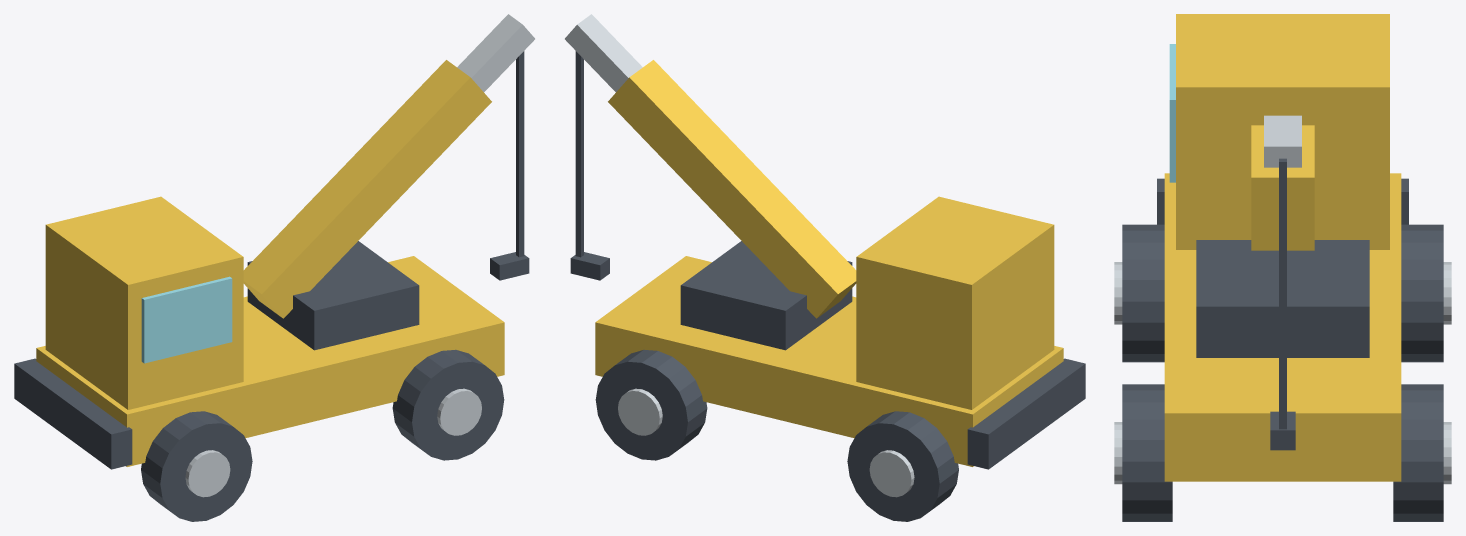
File: crane.gltf
3 views of the same model, side by side, from view 1: azimuth 30°, elevation 25°; view 2: azimuth 150°, elevation 25°; view 3: azimuth 270°, elevation 25° (orthographic). The views are drawn at different scales.
Parts seen in each view (by area): view 1: cab, chassis, boom, rubber tyre (×2), turntable, windscreen, bumper, wheel hub (×2), extension, cable, hook; view 2: cab, chassis, boom, rubber tyre (×2), turntable, bumper, wheel hub (×2), extension, cable, hook; view 3: cab, chassis, rubber tyre (×4), turntable, boom, wheel hub (×4), cable, extension, windscreen, hook, bumper.
Boxes of the visible parts, bbox=[...] form: cab: bbox=[45, 196, 243, 409]; chassis: bbox=[36, 256, 504, 466]; boom: bbox=[243, 60, 491, 318]; rubber tyre (×2): bbox=[141, 349, 504, 521]; turntable: bbox=[247, 241, 419, 350]; windscreen: bbox=[141, 276, 232, 363]; bumper: bbox=[14, 358, 132, 469]; wheel hub (×2): bbox=[185, 388, 481, 497]; extension: bbox=[457, 14, 534, 91]; cable: bbox=[516, 51, 524, 257]; hook: bbox=[490, 252, 529, 280]; cab: bbox=[856, 196, 1054, 409]; chassis: bbox=[595, 256, 1063, 466]; boom: bbox=[608, 60, 856, 318]; rubber tyre (×2): bbox=[595, 349, 958, 521]; turntable: bbox=[680, 241, 852, 350]; bumper: bbox=[967, 358, 1085, 469]; wheel hub (×2): bbox=[618, 388, 914, 497]; extension: bbox=[565, 14, 642, 91]; cable: bbox=[575, 51, 583, 257]; hook: bbox=[570, 252, 609, 280]; cab: bbox=[1176, 14, 1389, 249]; chassis: bbox=[1164, 173, 1401, 481]; rubber tyre (×4): bbox=[1122, 224, 1443, 521]; turntable: bbox=[1196, 240, 1369, 357]; boom: bbox=[1251, 125, 1314, 250]; wheel hub (×4): bbox=[1114, 262, 1451, 484]; cable: bbox=[1279, 158, 1286, 429]; extension: bbox=[1264, 115, 1301, 167]; windscreen: bbox=[1169, 44, 1175, 182]; hook: bbox=[1270, 411, 1295, 450]; bumper: bbox=[1157, 178, 1408, 224].
Bounding box in the file's own units: 2.22 × 1.67 × 1.07.
